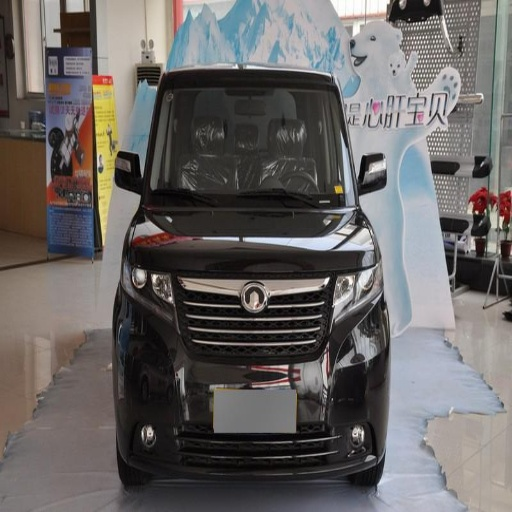front_bumper: (122, 270, 382, 479)
front_right_light: (124, 250, 174, 308)
hood: (130, 193, 374, 276)
left_mirror: (357, 152, 388, 196)
